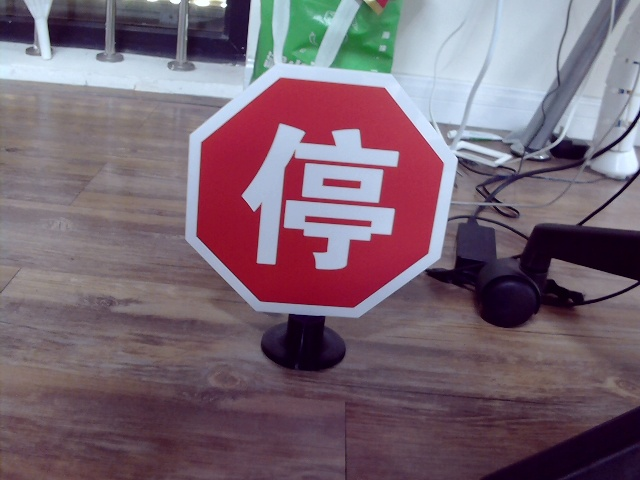stop: (240, 124, 397, 271)
